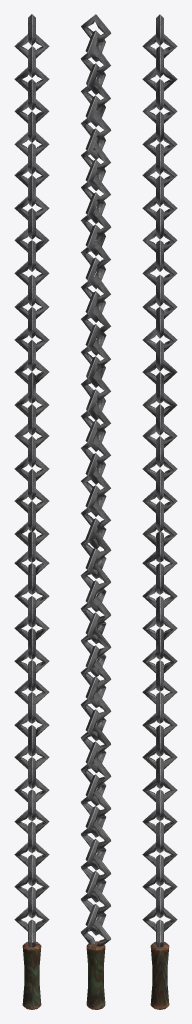
The model's file is ChainHandle.fbx.
3 views of the same model, side by side, from view 1: azimuth 90°, elevation 25°; view 2: azimuth 150°, elevation 25°; view 3: azimuth 270°, elevation 25° (orthographic).
Parts seen in each view (by area): view 1: Chain3, Chain2, Chain, ChainHandle; view 2: Chain3, Chain2, Chain, ChainHandle; view 3: Chain3, Chain2, Chain, ChainHandle.
Boxes of the visible parts, left/top/right/bottom form: Chain3: left=14, top=14, right=49, bottom=545; Chain2: left=14, top=532, right=49, bottom=801; Chain: left=14, top=789, right=49, bottom=931; ChainHandle: left=22, top=919, right=41, bottom=1009; Chain3: left=80, top=14, right=111, bottom=549; Chain2: left=80, top=532, right=111, bottom=805; Chain: left=81, top=789, right=110, bottom=935; ChainHandle: left=81, top=919, right=110, bottom=1009; Chain3: left=142, top=14, right=177, bottom=545; Chain2: left=142, top=532, right=177, bottom=801; Chain: left=142, top=789, right=177, bottom=931; ChainHandle: left=150, top=919, right=169, bottom=1009.
Size of the model in its own units: 7.49 by 232 by 7.49.
